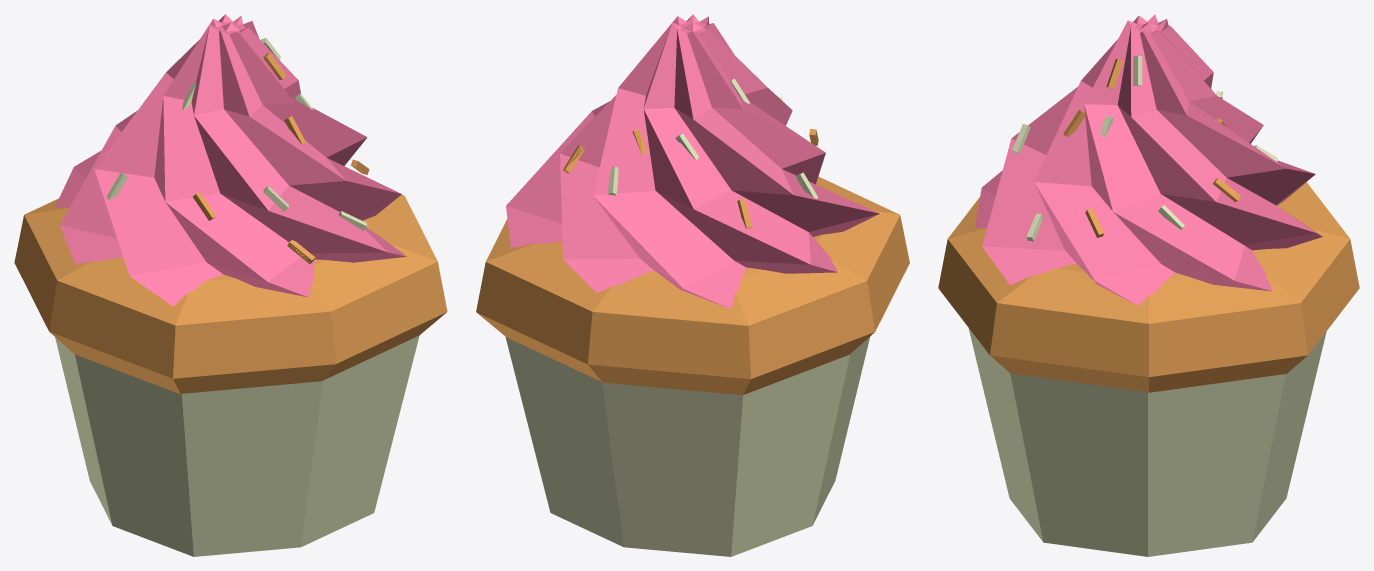
The model's file is cupcake.fbx.
3 renders of one model, left to right at view 1: azimuth 30°, elevation 25°; view 2: azimuth 150°, elevation 25°; view 3: azimuth 270°, elevation 25°, orthographic.
Parts seen in each view (by area): view 1: cupcake; view 2: cupcake; view 3: cupcake.
Boxes of the visible parts, x1,y1,x2,y2 form: cupcake: [14, 14, 447, 556]; cupcake: [476, 14, 909, 556]; cupcake: [938, 14, 1359, 556].
Bounding box in the file's own units: 101 × 126 × 101.
